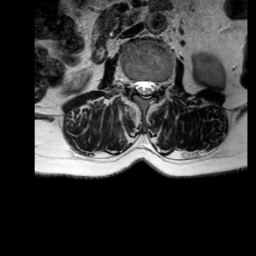CCS_normal: (141, 71, 148, 105)
LFS_normal: (155, 72, 163, 99)
LLS_normal: (148, 72, 155, 101)
RFS_normal: (127, 69, 134, 100)
RLS_normal: (134, 73, 141, 100)
